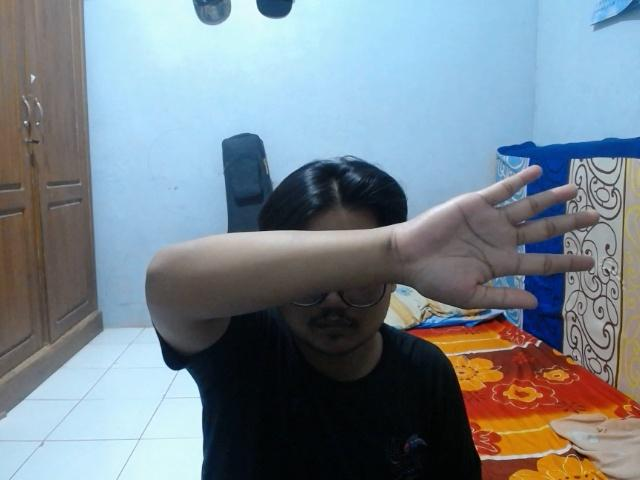Release: (387, 161, 602, 313)
